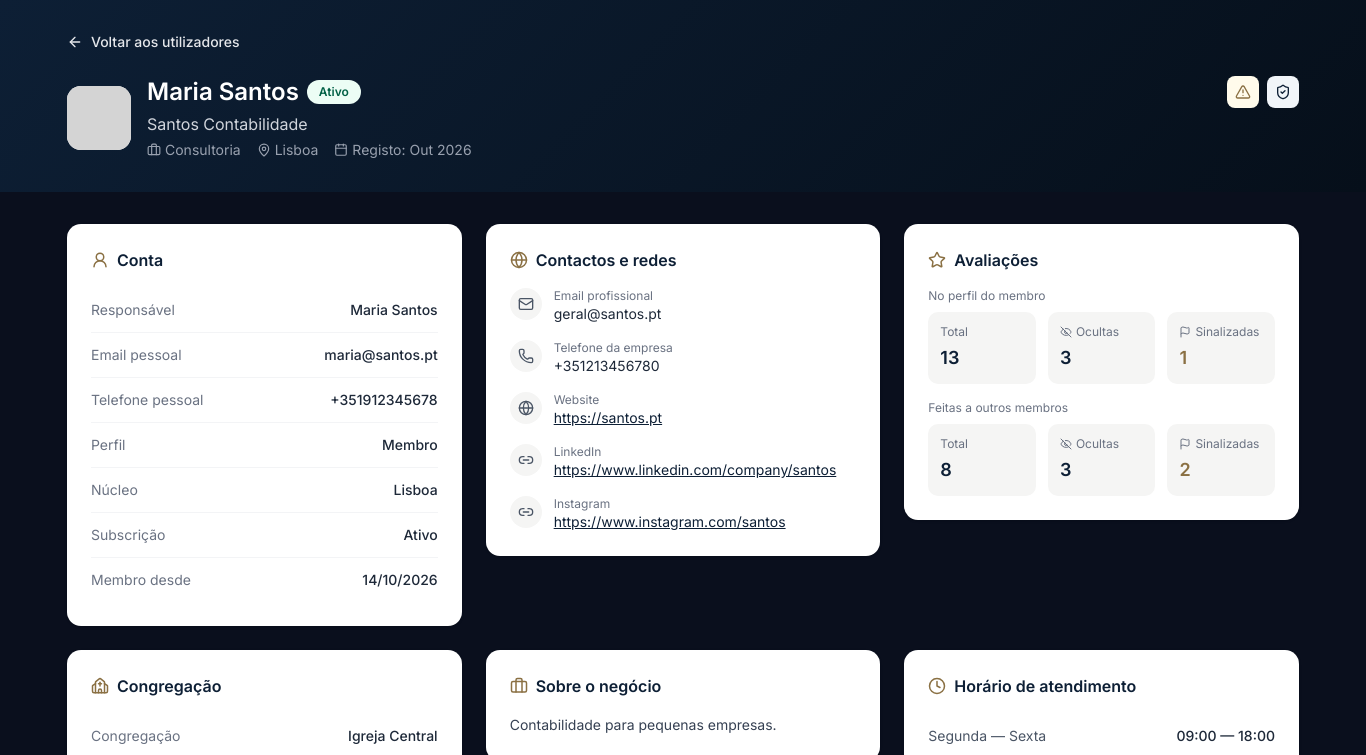
Test case: Detalhe do membro › num 409 recarrega o detalhe e num 403 mostra o erro sem recarregar
Click the button named "Bloquear Maria Santos" at (1243,92), box [1227, 76, 1259, 108]
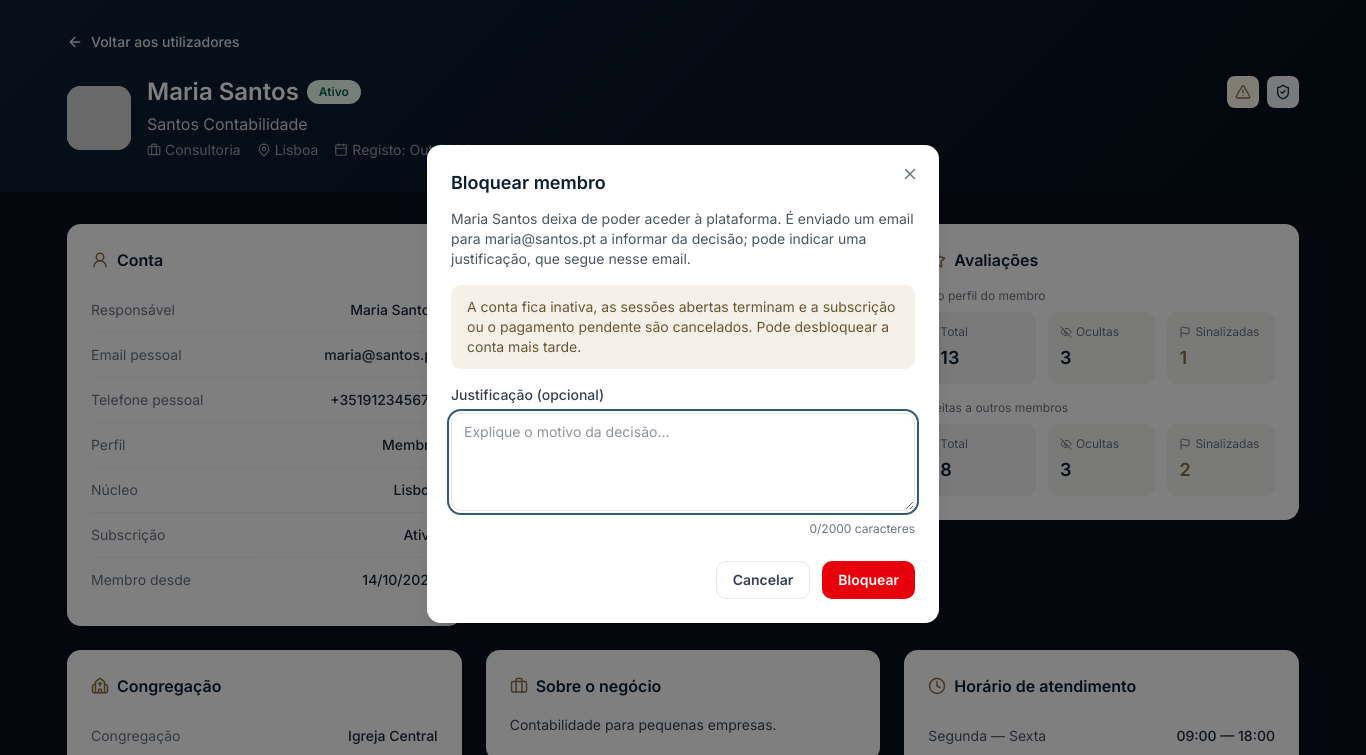
Click the button "Bloquear" at (869,580), box [822, 561, 915, 599]
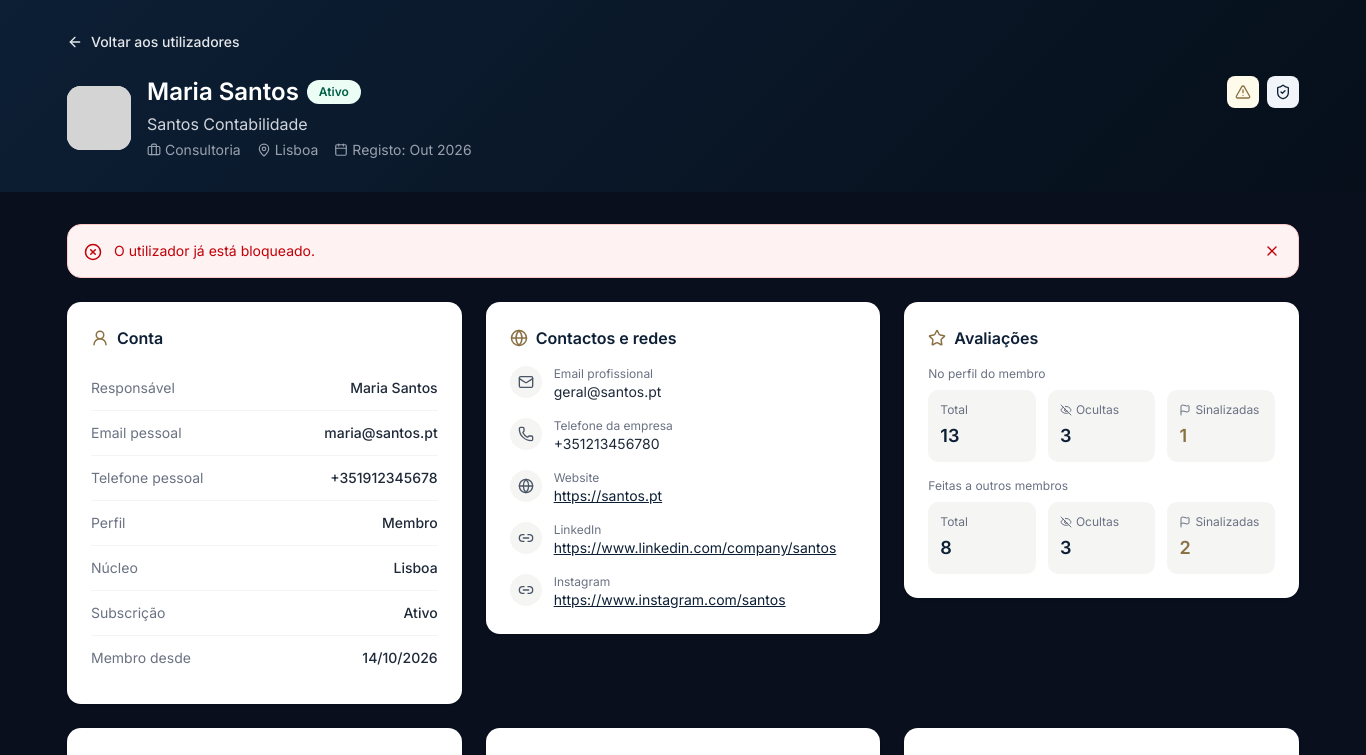
Now the message reads "O utilizador já está bloqueado.", box [114, 242, 315, 259]
Click the button named "Fechar mensagem" at (1272,251), box [1262, 241, 1282, 261]
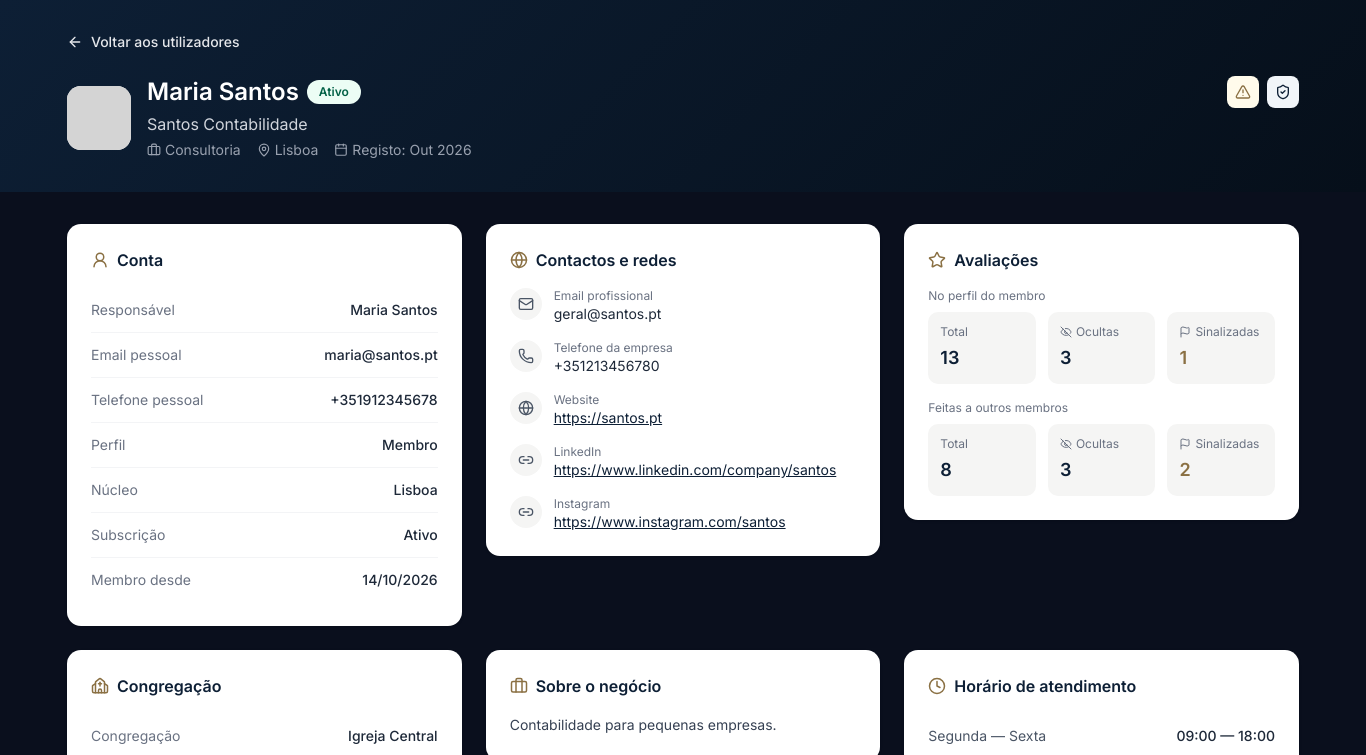
Click the button named "Bloquear Maria Santos" at (1243,92), box [1227, 76, 1259, 108]
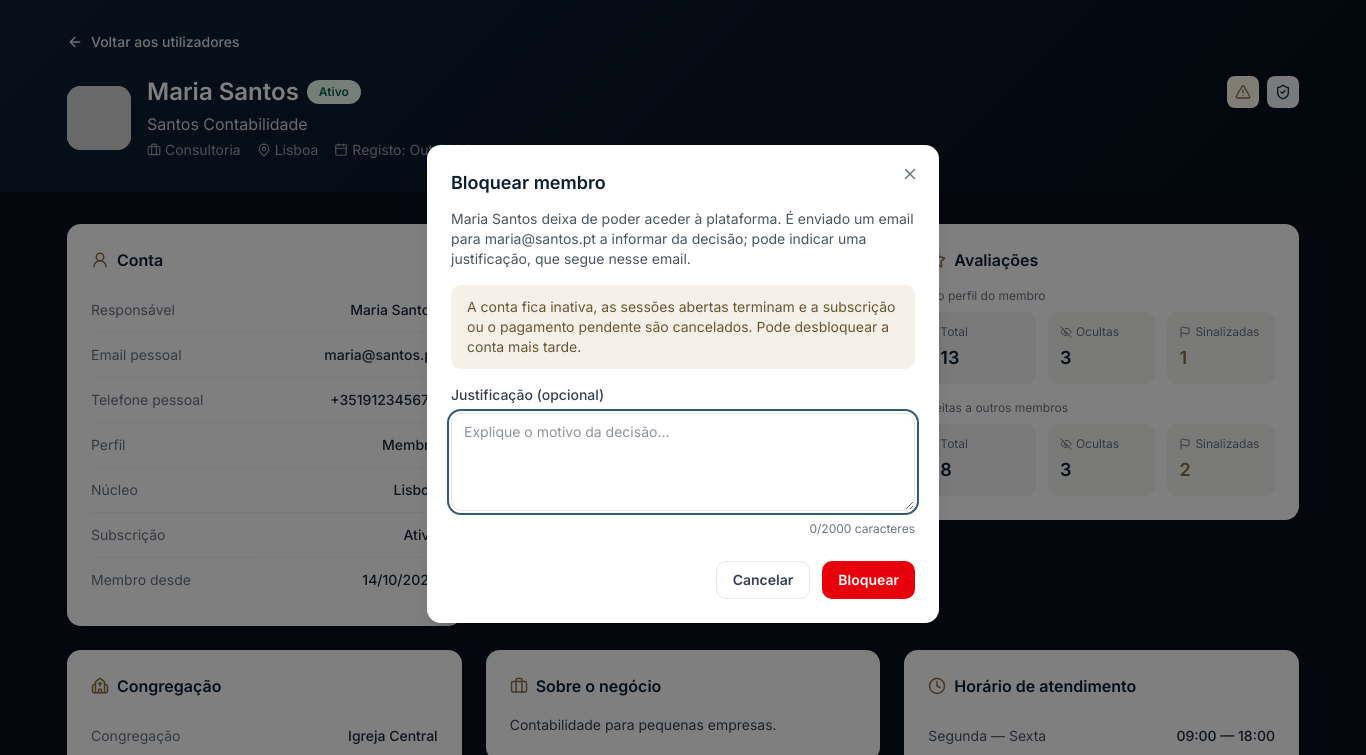
Click the button "Bloquear" at (869,580), box [822, 561, 915, 599]
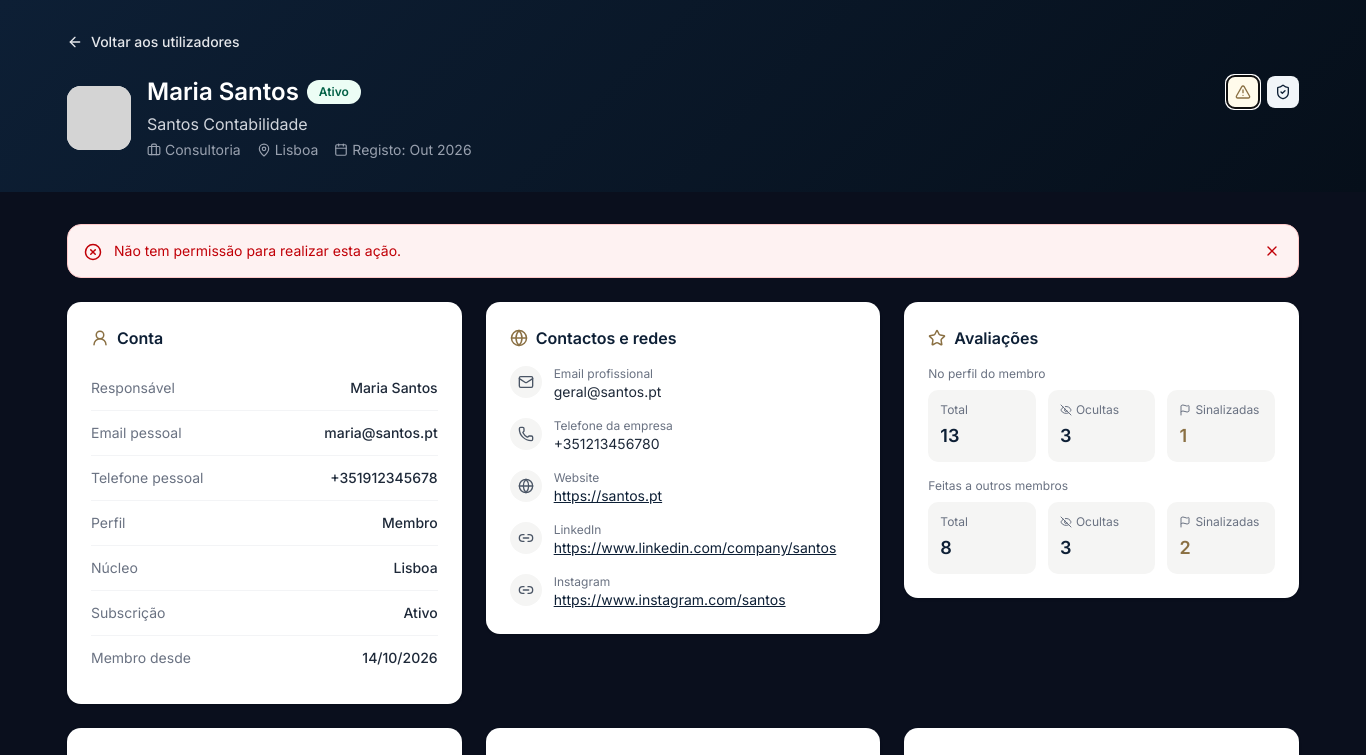
Now the message reads "Não tem permissão para realizar esta ação.", box [114, 242, 401, 259]
Now the dialog is gone
